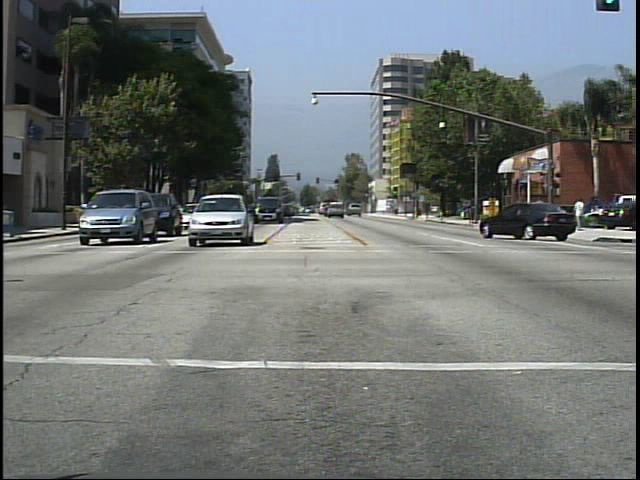person: (532, 192, 550, 231), (575, 195, 586, 219)
